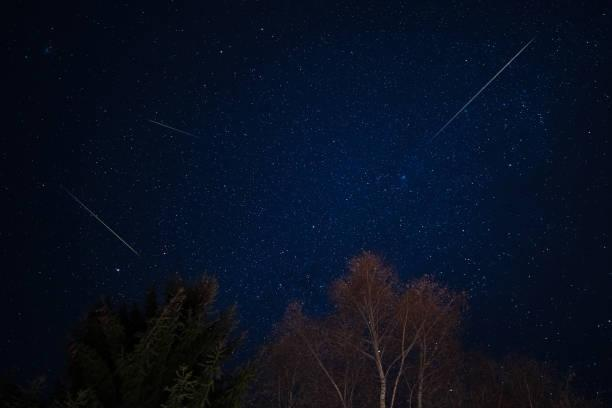meteor: (522, 28, 548, 48), (128, 244, 143, 260), (145, 113, 160, 127)
